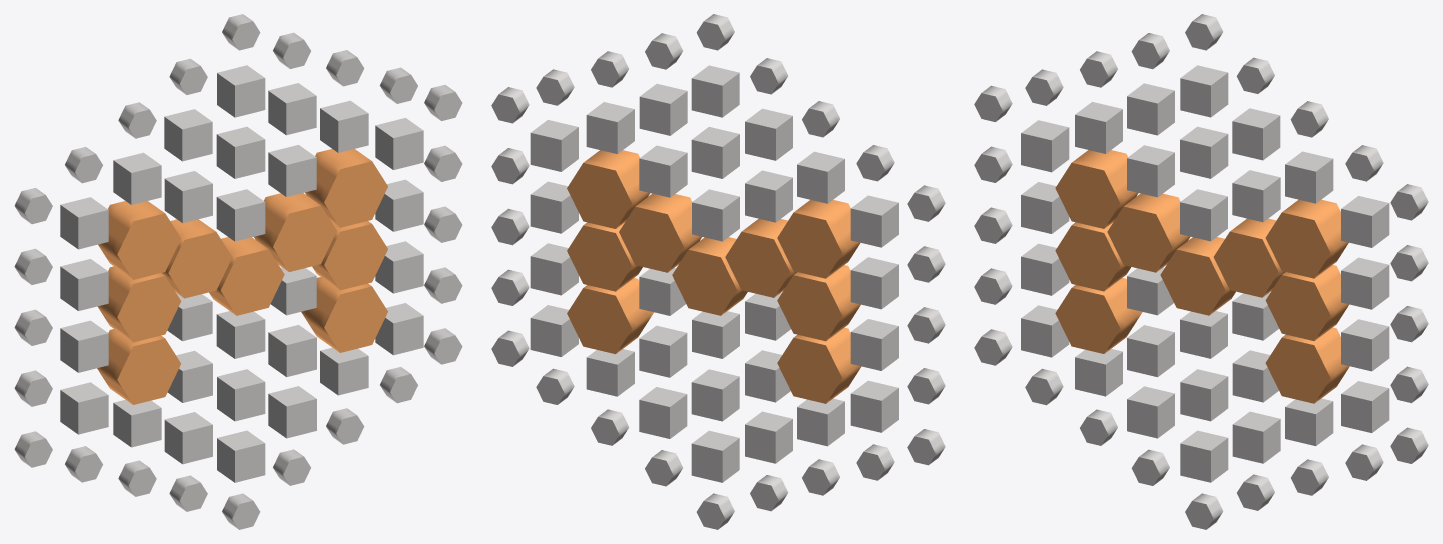
File: mfsz.gltf
The picture shows the model from 3 angles, left to right: view 1: azimuth 30°, elevation 25°; view 2: azimuth 150°, elevation 25°; view 3: azimuth 330°, elevation 25°; orthographic projection.
Visible parts, largest first — view 1: 放样.7, 放样.2, 放样.5, 放样.4, 放样.8, 放样.3, 放样, 放样.1, 放样.6, 立方体, 立方体.23, 立方体.21 (+50 smaller); view 2: 放样.7, 放样.2, 放样.5, 放样.4, 放样.8, 放样.3, 放样, 放样.1, 放样.6, 立方体.6, 立方体.4, 立方体.24 (+50 smaller); view 3: 放样.5, 放样.1, 放样.7, 放样.4, 放样.6, 放样.8, 放样, 放样.2, 放样.3, 立方体.9, 立方体.16, 立方体.10 (+50 smaller).
Part boxes in pixels (bbox=[...]): 放样.7: bbox=[98, 201, 181, 279]; 放样.2: bbox=[254, 193, 336, 271]; 放样.5: bbox=[305, 149, 387, 227]; 放样.4: bbox=[301, 277, 387, 352]; 放样.8: bbox=[97, 329, 181, 404]; 放样.3: bbox=[97, 266, 181, 342]; 放样: bbox=[209, 237, 284, 315]; 放样.1: bbox=[161, 219, 232, 298]; 放样.6: bbox=[312, 221, 387, 290]; 立方体: bbox=[216, 189, 265, 241]; 立方体.23: bbox=[60, 320, 108, 372]; 立方体.21: bbox=[60, 197, 108, 249]; 放样.7: bbox=[777, 200, 860, 278]; 放样.2: bbox=[619, 193, 701, 272]; 放样.5: bbox=[567, 150, 650, 228]; 放样.4: bbox=[567, 278, 653, 354]; 放样.8: bbox=[777, 327, 861, 403]; 放样.3: bbox=[777, 265, 860, 341]; 放样: bbox=[672, 237, 747, 315]; 放样.1: bbox=[725, 219, 796, 297]; 放样.6: bbox=[567, 222, 642, 291]; 立方体.6: bbox=[691, 430, 739, 482]; 立方体.4: bbox=[691, 65, 739, 117]; 立方体.24: bbox=[850, 380, 898, 432]; 放样.5: bbox=[1265, 199, 1348, 278]; 放样.1: bbox=[1107, 193, 1190, 272]; 放样.7: bbox=[1055, 150, 1138, 228]; 放样.4: bbox=[1265, 327, 1349, 403]; 放样.6: bbox=[1265, 265, 1349, 341]; 放样.8: bbox=[1055, 278, 1142, 353]; 放样: bbox=[1160, 237, 1235, 315]; 放样.2: bbox=[1213, 218, 1285, 297]; 放样.3: bbox=[1055, 222, 1130, 291]; 立方体.9: bbox=[1232, 108, 1280, 160]; 立方体.16: bbox=[1232, 411, 1280, 463]; 立方体.10: bbox=[1232, 170, 1280, 222].
Size of the model in its own units: 2732 by 2987 by 268.
